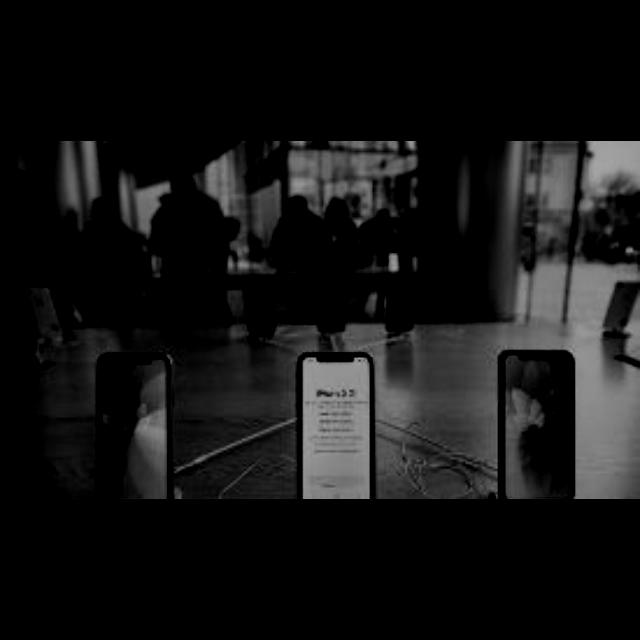fake: (492, 341, 584, 502), (88, 342, 176, 502), (294, 352, 376, 494)
